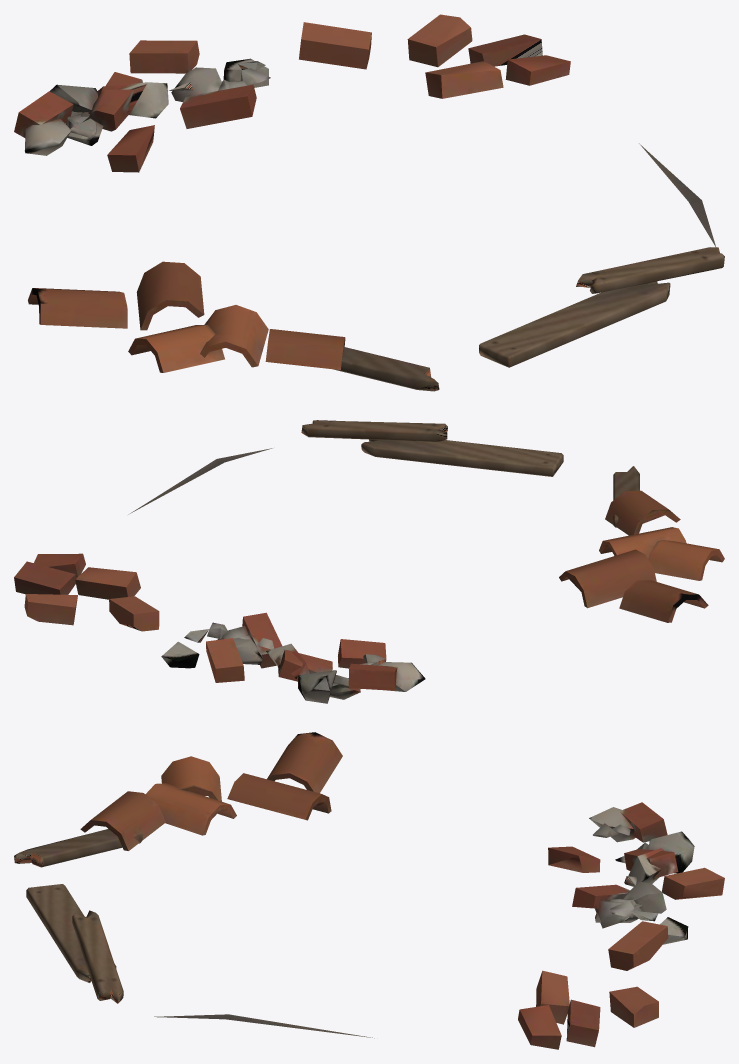
File: rough-town-2.low.glb
3 renders of one model, top to bottom at view 1: azimuth 30°, elevation 25°; view 2: azimuth 150°, elevation 25°; view 3: azimuth 270°, elevation 25°, orthographic. The views are drawn at different scales.
Parts seen in each view (by area): view 1: rough-town-2; view 2: rough-town-2; view 3: rough-town-2.
Boxes of the visible parts, x1,y1,x2,y2 form: rough-town-2: [14, 14, 724, 391]; rough-town-2: [14, 420, 724, 703]; rough-town-2: [14, 732, 724, 1049].
Bounding box in the file's own units: 1.69 × 0.1266 × 1.76.
Materials: 1 (1 with a texture image).
